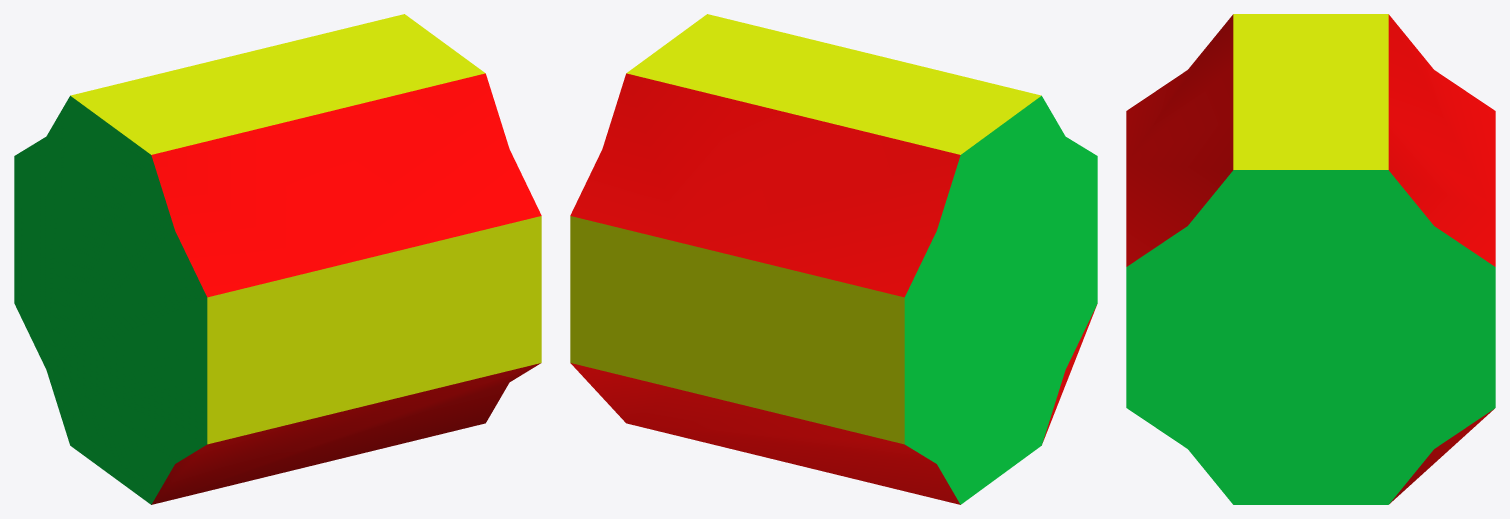
3 renders of one model, left to right at view 1: azimuth 30°, elevation 25°; view 2: azimuth 150°, elevation 25°; view 3: azimuth 270°, elevation 25°, orthographic. The views are drawn at different scales.
Parts seen in each view (by area): view 1: Объект_Куб; view 2: Объект_Куб; view 3: Объект_Куб.
Part boxes in pixels (box(x1,y1,x2,y2)): Объект_Куб: box(14, 14, 541, 504); Объект_Куб: box(570, 14, 1097, 504); Объект_Куб: box(1126, 14, 1495, 504).
Size of the model in its own units: 1 by 1 by 1.
